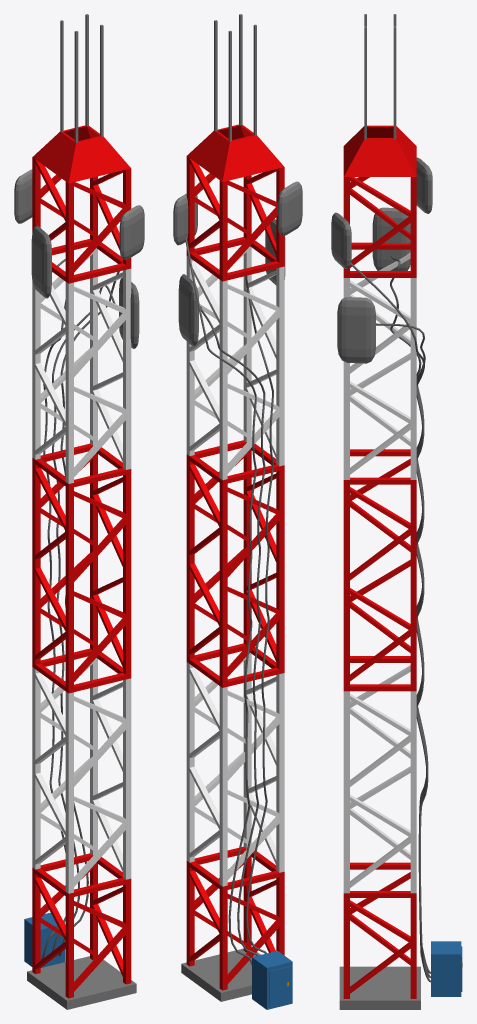
File: Tower.fbx
3 renders of one model, left to right at view 1: azimuth 30°, elevation 25°; view 2: azimuth 210°, elevation 25°; view 3: azimuth 270°, elevation 25°, orthographic.
Visible parts, largest first — view 1: Cube, BézierCurve, Cube.003, Cube.005, Cube.001, Cube.002, Cube.004; view 2: Cube, BézierCurve, Cube.005, Cube.004, Cube.002, Cube.001, Cube.006, Cube.003; view 3: Cube, BézierCurve, Cube.004, Cube.005, Cube.003, Cube.001, Cube.002.
Part boxes in pixels (x1,y1,x2,y2): Cube: (27,14,136,1009); BézierCurve: (41,259,119,959); Cube.003: (31,225,51,298); Cube.005: (24,912,65,967); Cube.001: (119,205,144,259); Cube.002: (14,169,32,223); Cube.004: (119,277,139,348); Cube: (181,14,284,1001); BézierCurve: (185,238,273,965); Cube.005: (252,951,292,1009); Cube.004: (178,274,198,346); Cube.002: (278,181,302,235); Cube.001: (173,193,197,245); Cube.006: (269,966,290,1005); Cube.003: (265,219,285,285); Cube: (339,14,420,1009); BézierCurve: (351,256,430,982); Cube.004: (337,297,375,363); Cube.005: (431,941,461,996); Cube.003: (372,207,410,270); Cube.001: (331,212,351,268); Cube.002: (416,157,432,213).
Bounding box in the file's own units: 2258 × 21167 × 2593.
